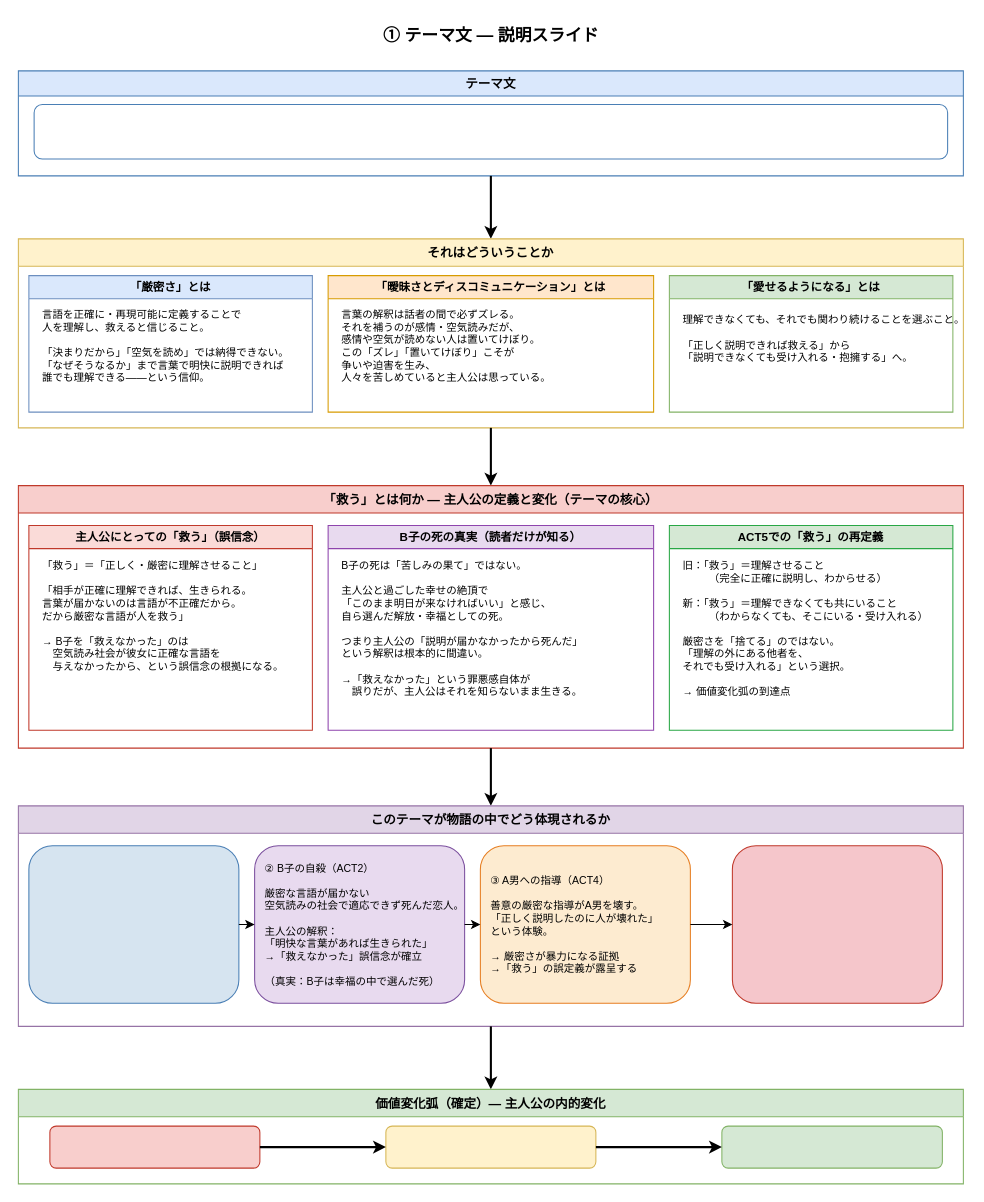
This 984x1202 diagram has some shape labels left out. Each missing label, with the centre of its shape:
① 父と数式（ACT1） 「なぜそうなるか」まで説明してくれた父。 「問いの言い換え」という手法を学ぶ。 → 厳密さ信仰の起源: the point at 133,924
④ クライマックス（ACT5） A男の自殺未遂に際し、 「理解できなくてもそれでも受け入れる」 を選択する。 「救う」の再定義が体現される。 → テーマの到達点: the point at 836,924
「厳密に定義された言葉」こそが人を救うと考えた主人公が、 曖昧さとディスコミュニケーションだらけの人間社会を、愛せるようになる話: the point at 490,131
理解しても救えない: the point at 490,1146
理解すれば救える: the point at 154,1146
理解できなくても寄り添える: the point at 831,1146
